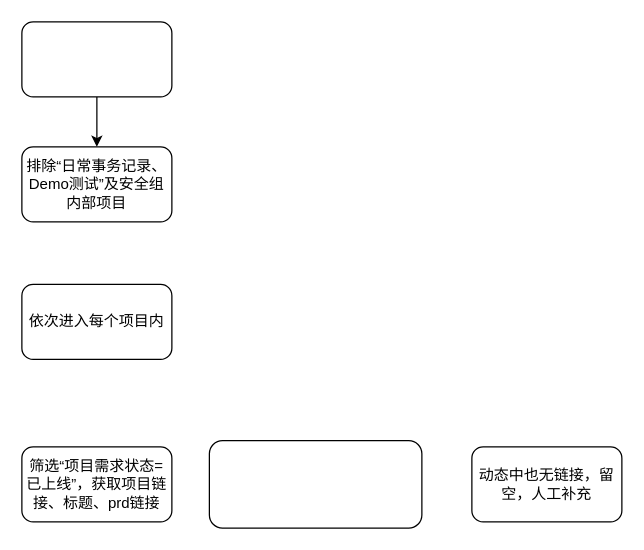
Image size: 644x550. Some labels were removed from this diagram. Each missing label, with the centre of its shape:
"如果prd无链接，在动态中搜索“https://doc.weixin.qq.com/doc/”" belongs at point 315,483.
"我参与的项目" belongs at point 96,59.
